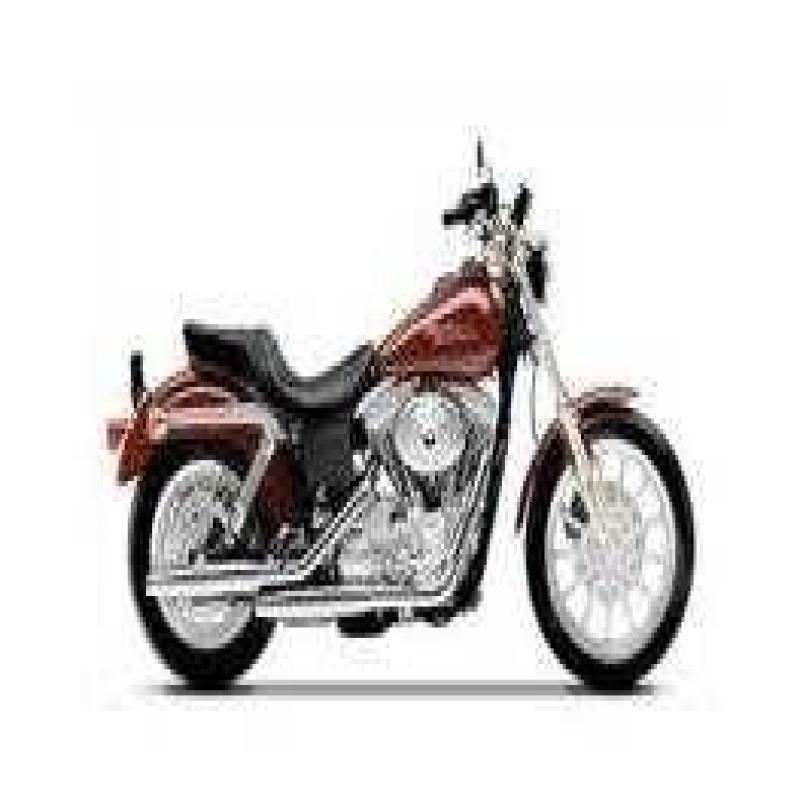bike: (99, 129, 701, 700)
